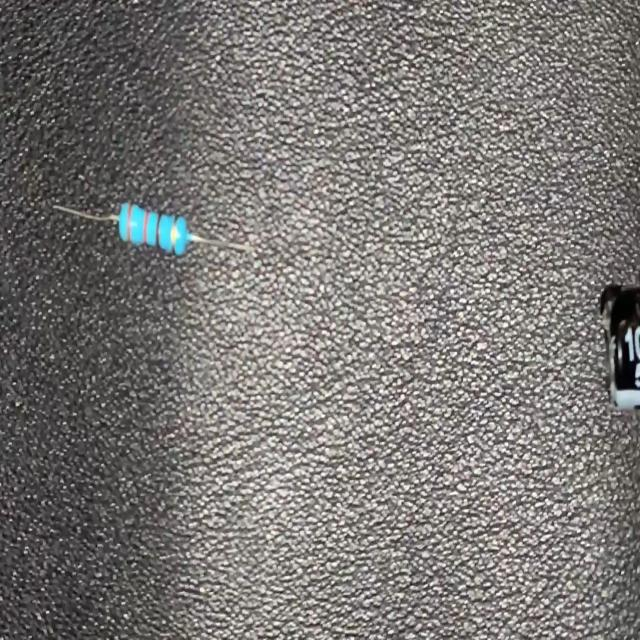capacitor: (592, 276, 640, 417)
cracked: (598, 282, 620, 340)
resistor: (51, 194, 257, 267)
